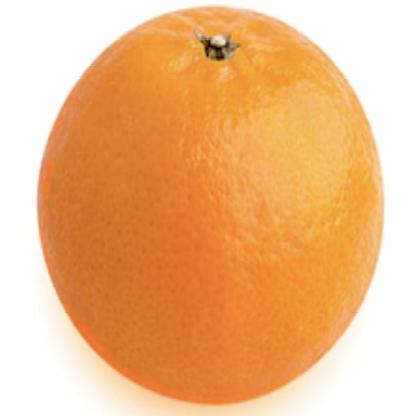fresh: (39, 10, 388, 409)
